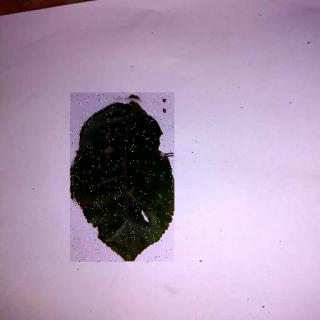Anthracnose: (71, 94, 175, 264)
